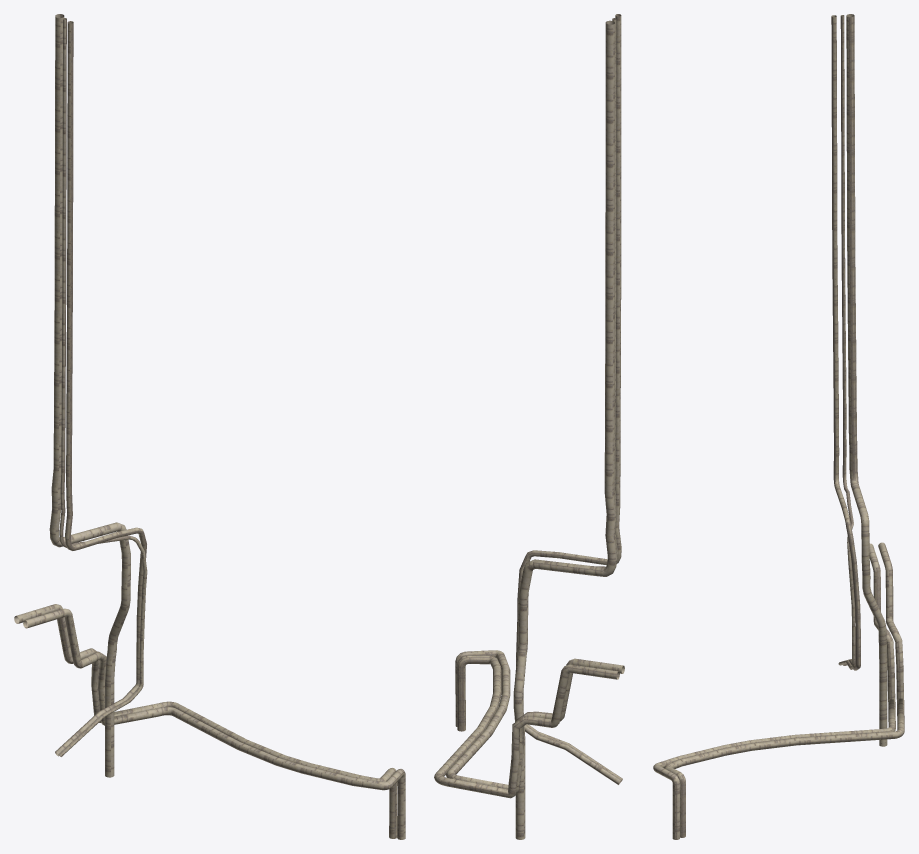
Rendered from SM_CastInSitu_08.fbx.
3 views of the same model, side by side, from view 1: azimuth 30°, elevation 25°; view 2: azimuth 150°, elevation 25°; view 3: azimuth 270°, elevation 25° (orthographic). The views are drawn at different scales.
Visible parts, largest first — view 1: SM_CastInSitu_08; view 2: SM_CastInSitu_08; view 3: SM_CastInSitu_08.
Boxes of the visible parts, left/top/right/bottom form: SM_CastInSitu_08: left=14, top=14, right=405, bottom=839; SM_CastInSitu_08: left=434, top=14, right=624, bottom=839; SM_CastInSitu_08: left=653, top=14, right=904, bottom=839.
Size of the model in its own units: 2116 by 5997 by 1903.
